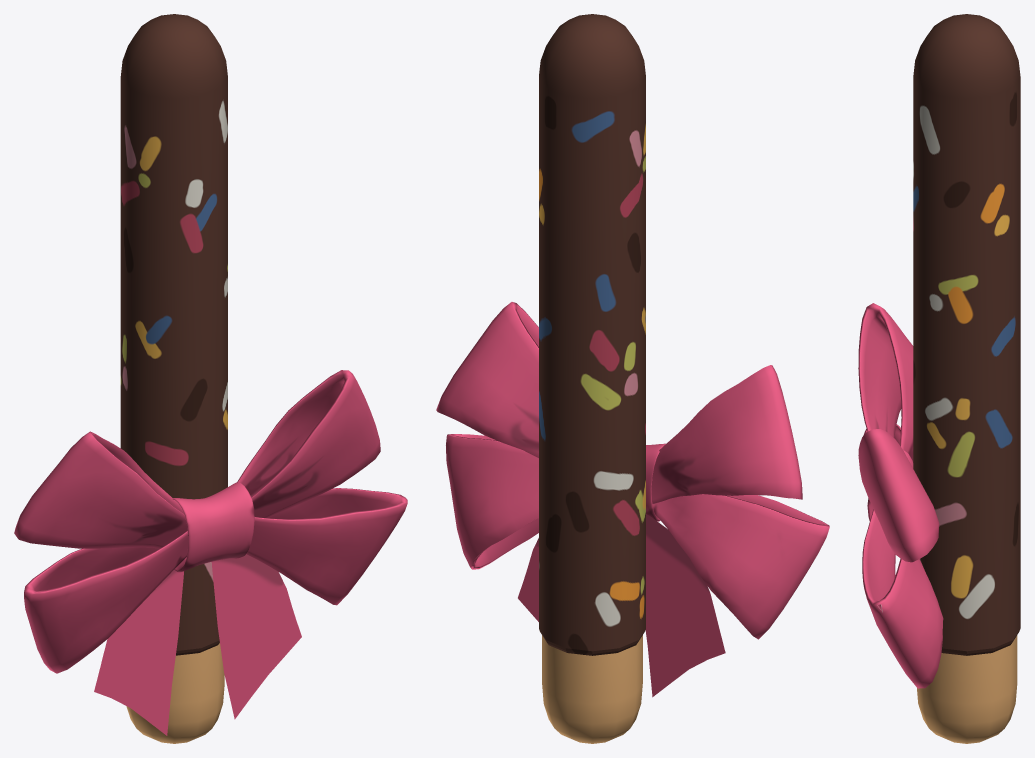
Rendered from BbeBbero_Mesh02.fbx.
3 views of the same model, side by side, from view 1: azimuth 30°, elevation 25°; view 2: azimuth 150°, elevation 25°; view 3: azimuth 270°, elevation 25° (orthographic).
Parts seen in each view (by area): view 1: RIBBON2; view 2: RIBBON2; view 3: RIBBON2.
Boxes of the visible parts, x1,y1,x2,y2 form: RIBBON2: (14,14,407,743); RIBBON2: (436,14,829,743); RIBBON2: (858,14,1020,743).
Bounding box in the file's own units: 43.78 × 78.62 × 16.05.
